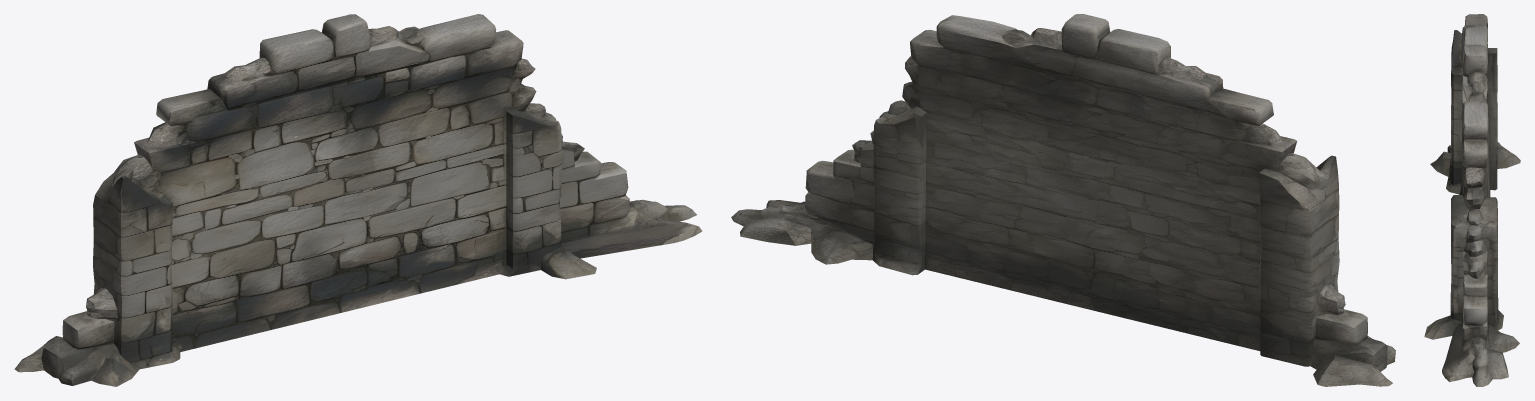
Rendered from duvar.fbx.
The picture shows the model from 3 angles, left to right: view 1: azimuth 30°, elevation 25°; view 2: azimuth 150°, elevation 25°; view 3: azimuth 270°, elevation 25°; orthographic projection. The views are drawn at different scales.
Parts seen in each view (by area): view 1: duvar; view 2: duvar; view 3: duvar.
Boxes of the visible parts, x1,y1,x2,y2 form: duvar: (14,14,702,386); duvar: (731,14,1395,386); duvar: (1424,14,1520,386).
Bounding box in the file's own units: 300 × 50 × 120.
Materials: 1 (1 with a texture image).
